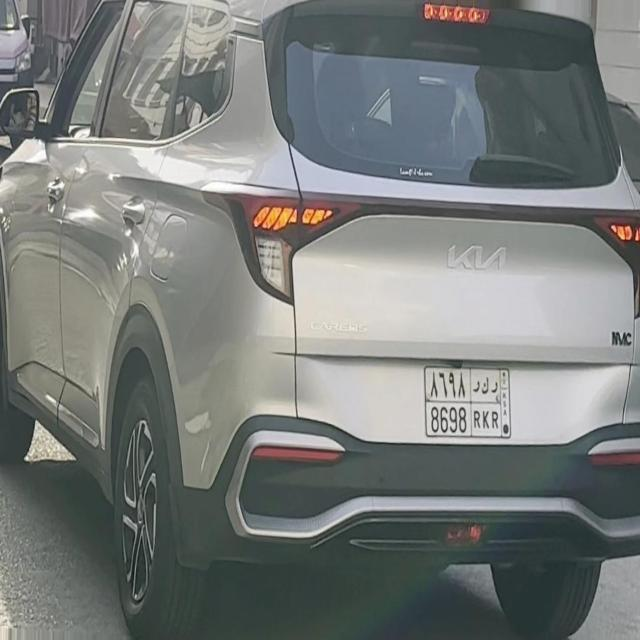Car-plate: (417, 357, 525, 449)
